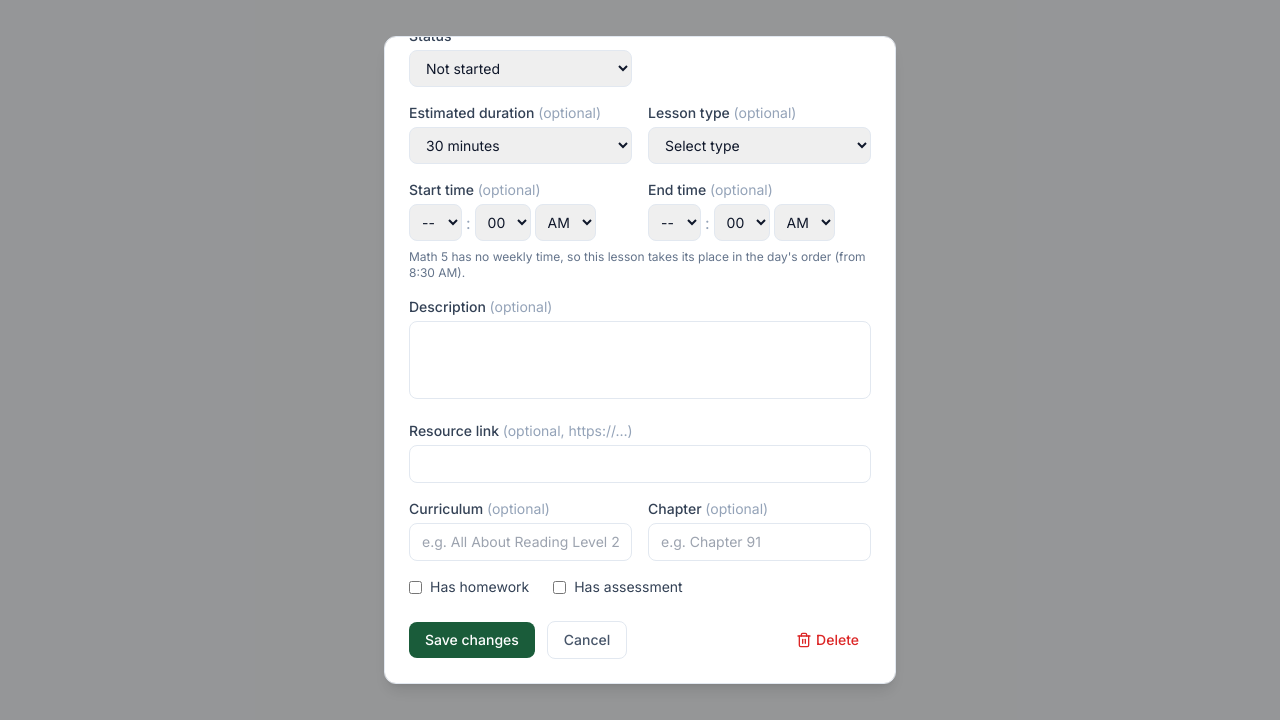
Scenario: EditLessonModal — saving › shows the server's reason and stays open when a save is refused
(page scrolled)
Click the button "Save changes" at [472, 640], box [409,622,535,658]
(page scrolled)
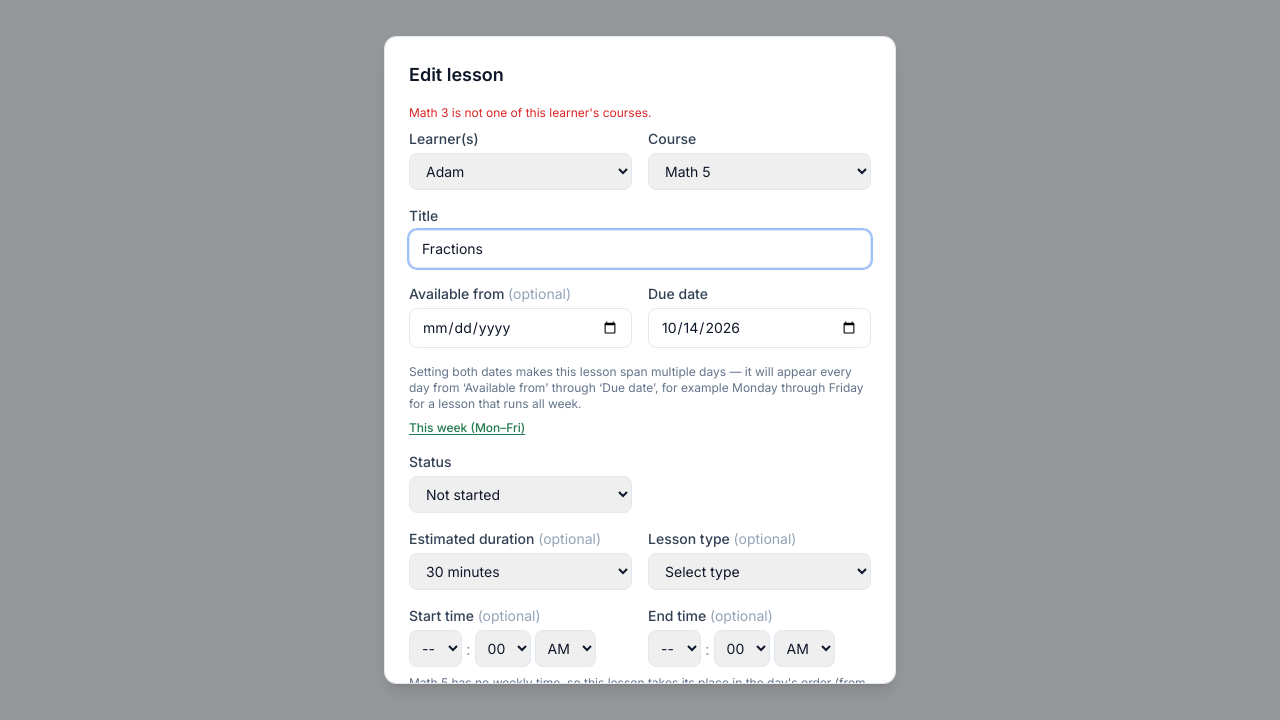
Expected: the text "Math 3 is not one of this learner's courses." is shown, [409,105,651,120]
